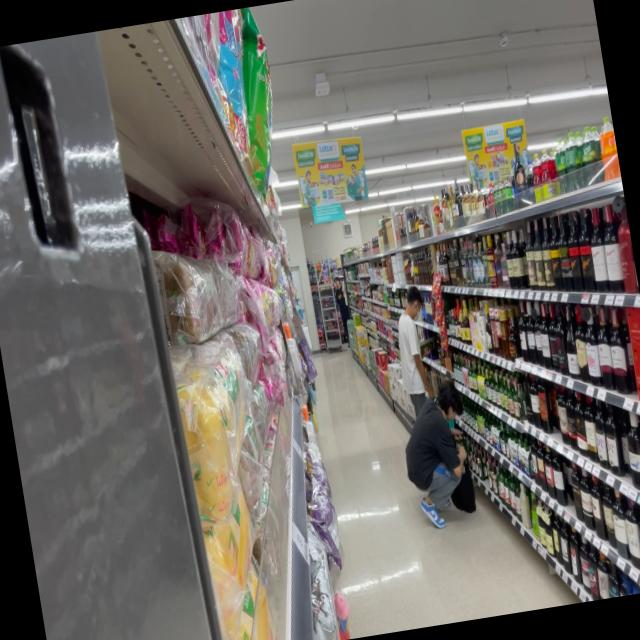shoplifting: (394, 380, 482, 542)
